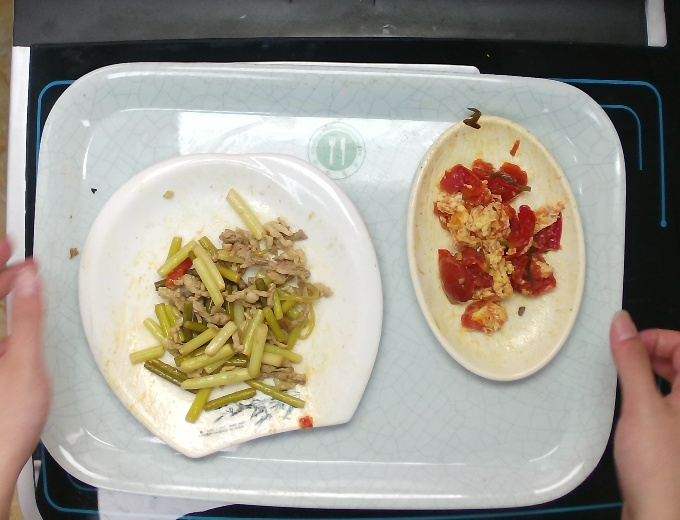JYsf-Mian_Pan: (72, 146, 393, 464)
JYsf-Tuo_Yuan_Wan: (405, 111, 591, 388)
